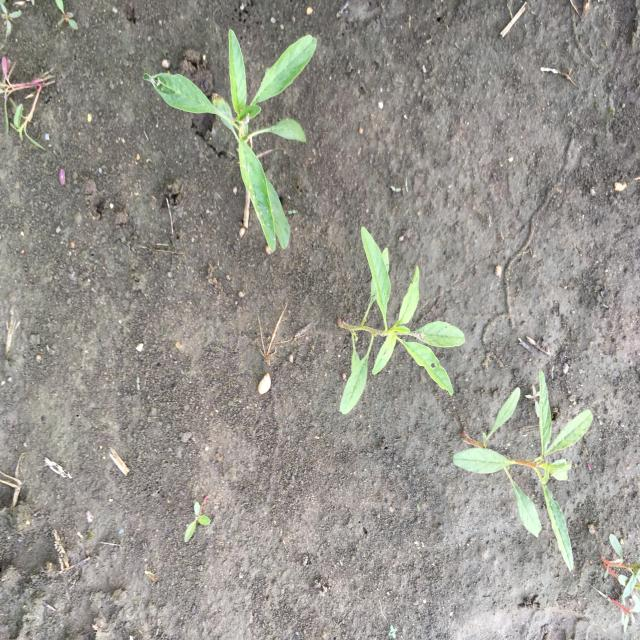Waterhemp: (141, 27, 319, 254), (451, 366, 594, 574), (336, 224, 466, 416)
